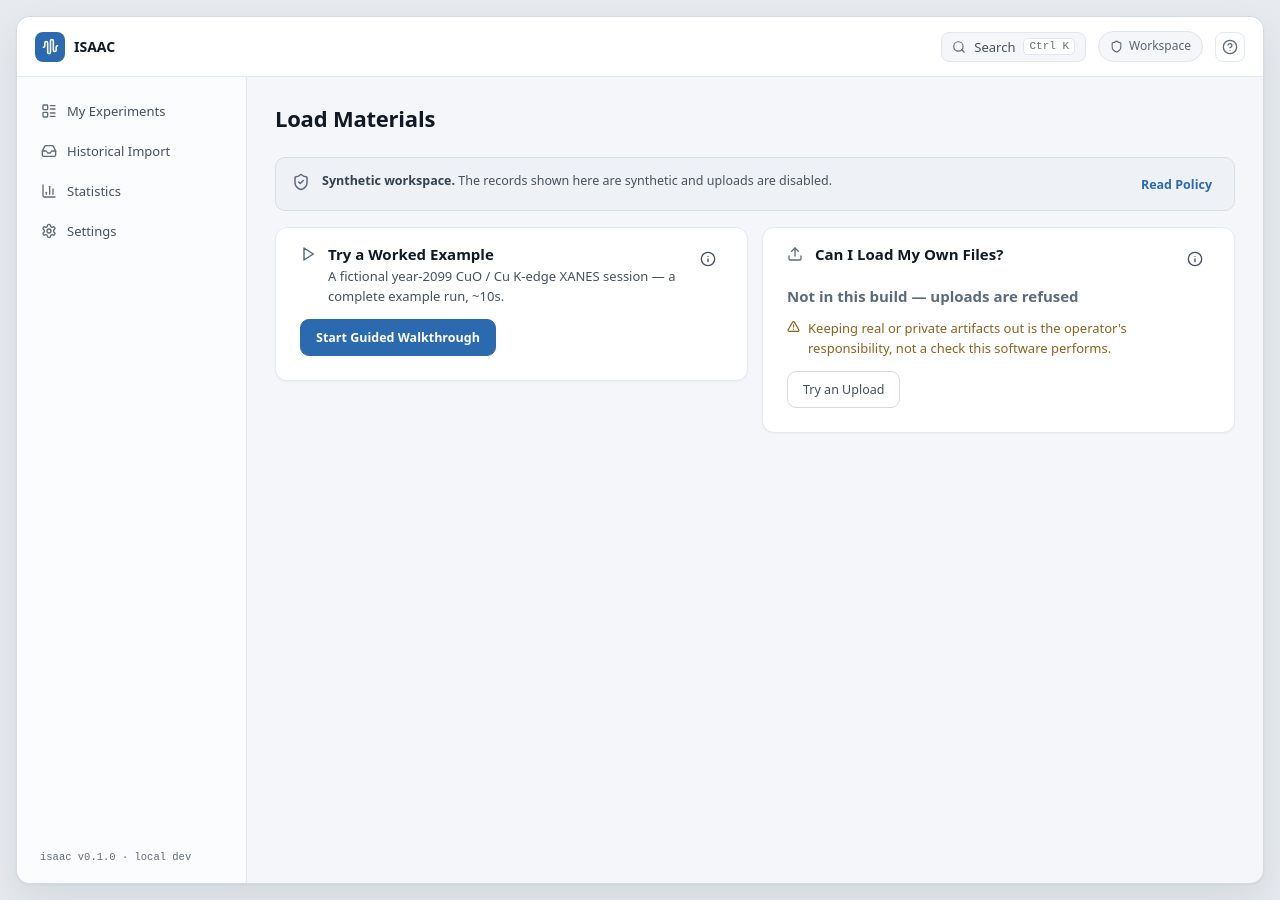
Scenario: S2 · Load Materials › local structured files are approval-gated: the 403 governance message shows verbatim
Click the button "Try an Upload" at (844, 389), box x1=787 y1=371 x2=900 y2=408
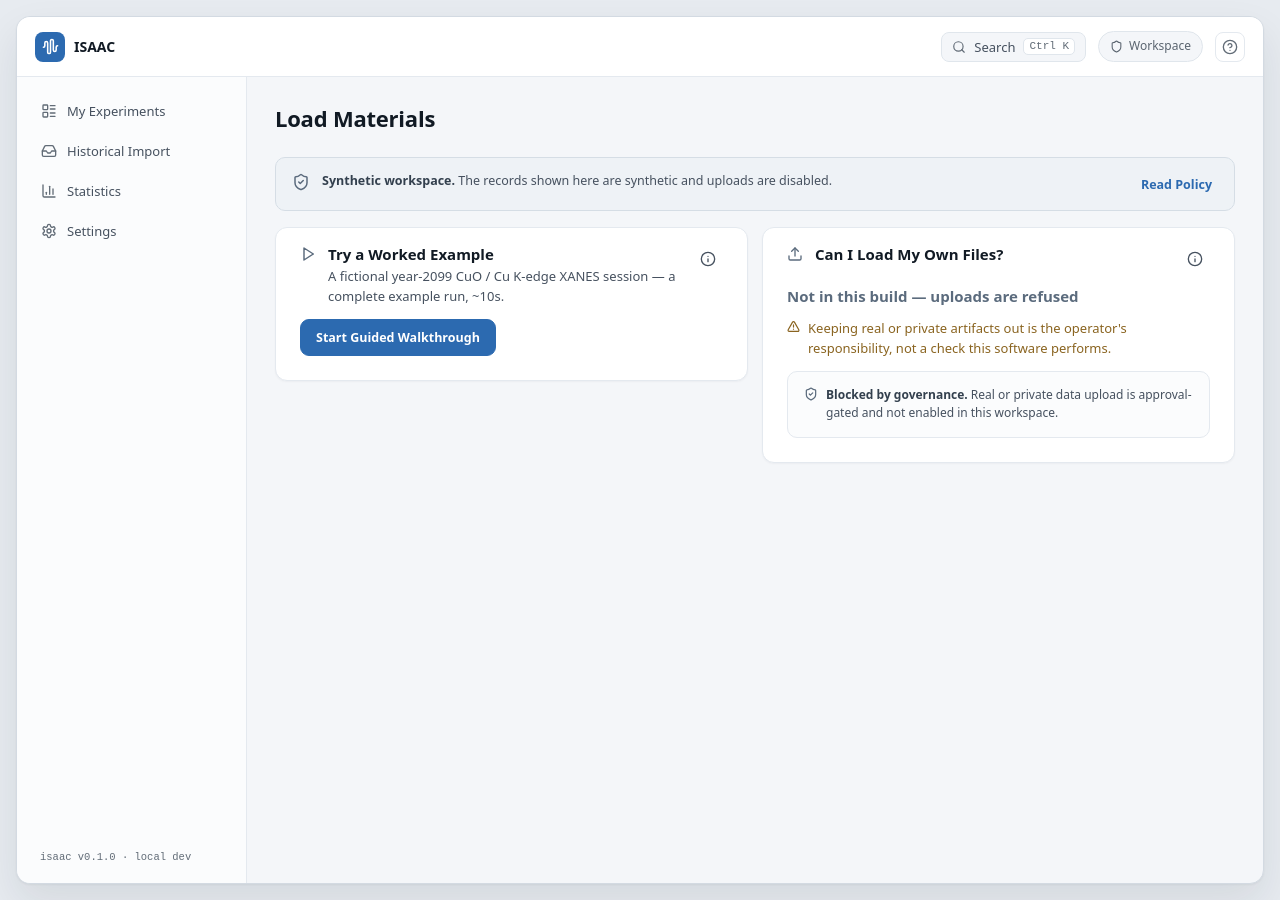
Expected: the text "Synthetic workspace." is shown, x1=322 y1=172 x2=455 y2=189
Expected: the text "Blocked by governance." is shown, x1=826 y1=386 x2=968 y2=403
Expected: the text "Real or private data upload is approval-gated and not enabled in this workspace." is shown, x1=826 y1=386 x2=1192 y2=421
